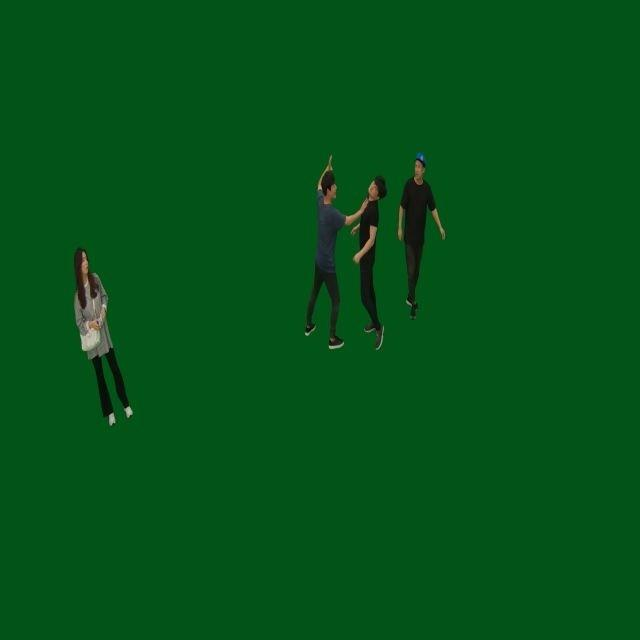fight: (303, 163, 385, 355)
non-fight: (71, 246, 131, 427), (396, 153, 444, 318)
